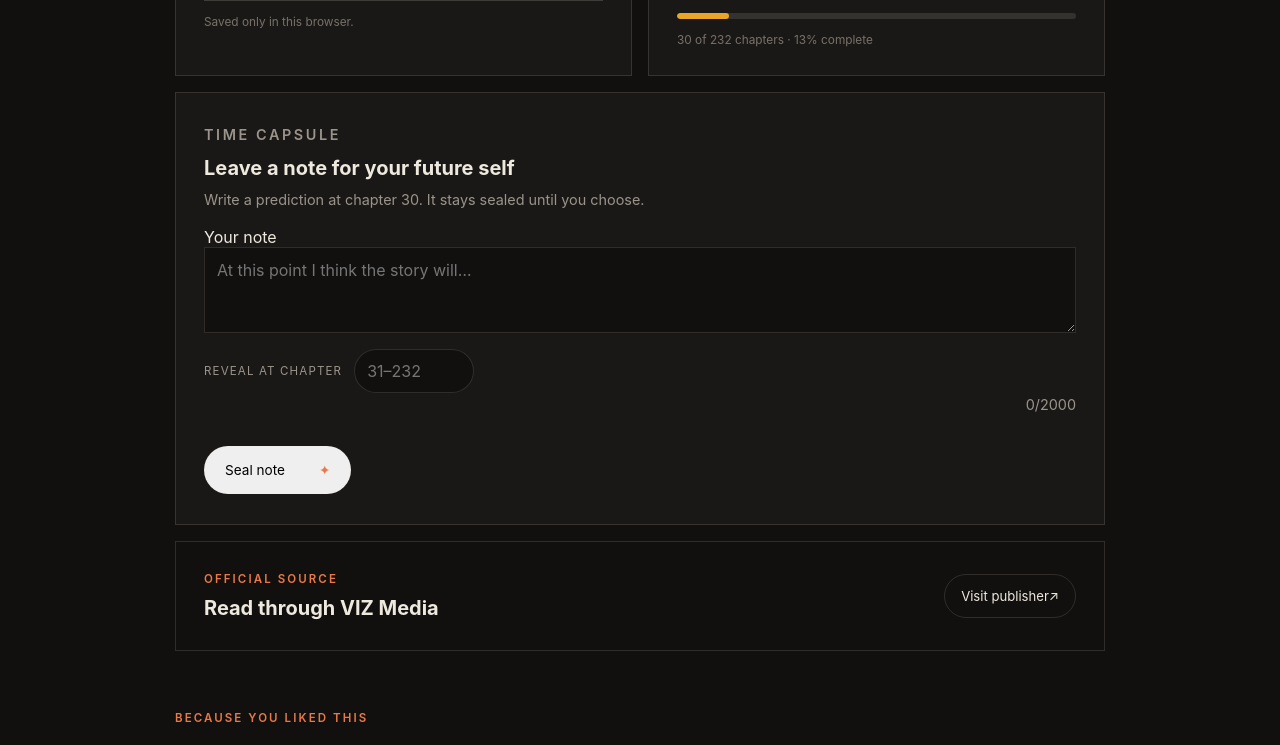
Scenario: capsule failure paths › seal: a failed write surfaces an error and the note is not persisted
This screenshot has width=1280, height=745.
(page scrolled)
Step 1. Type "60" into the number field labelled "Reveal at chapter" → (414, 371), box [354, 349, 474, 393]
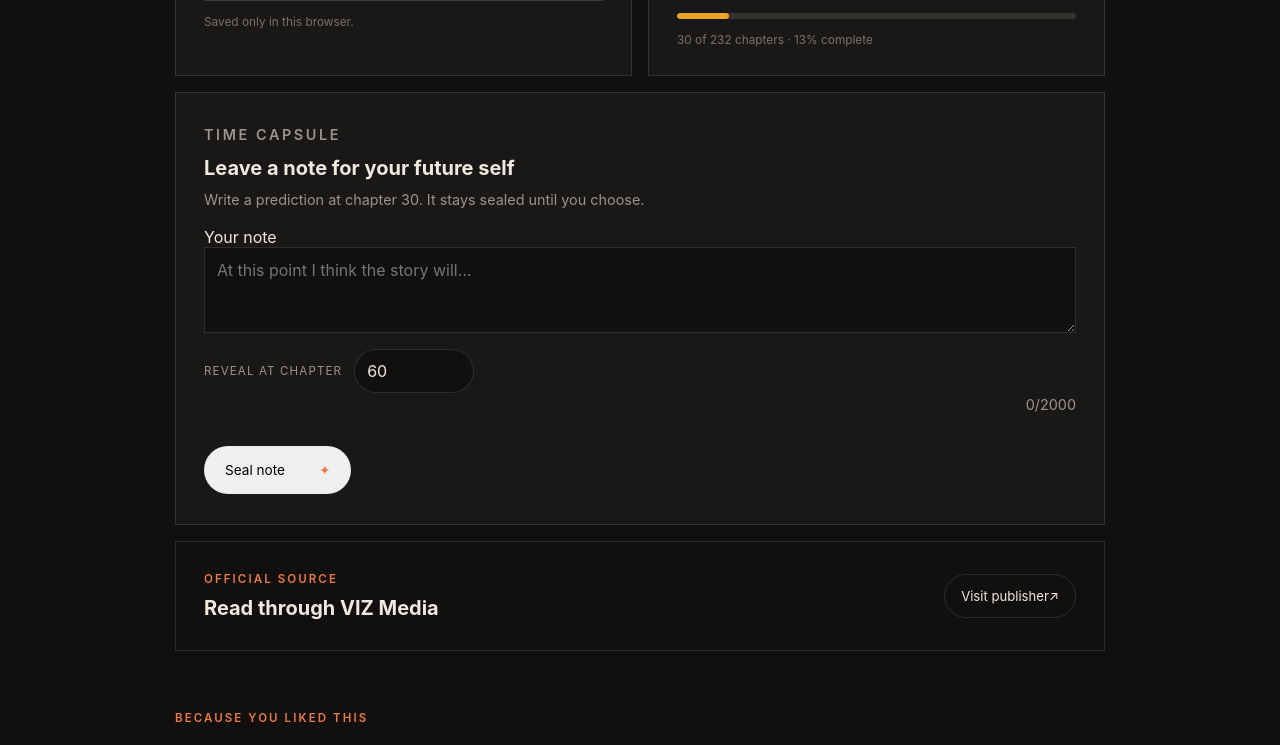
Step 2. Type "will be lost" into the text box labelled "Your note" → (640, 290), box [204, 247, 1076, 333]
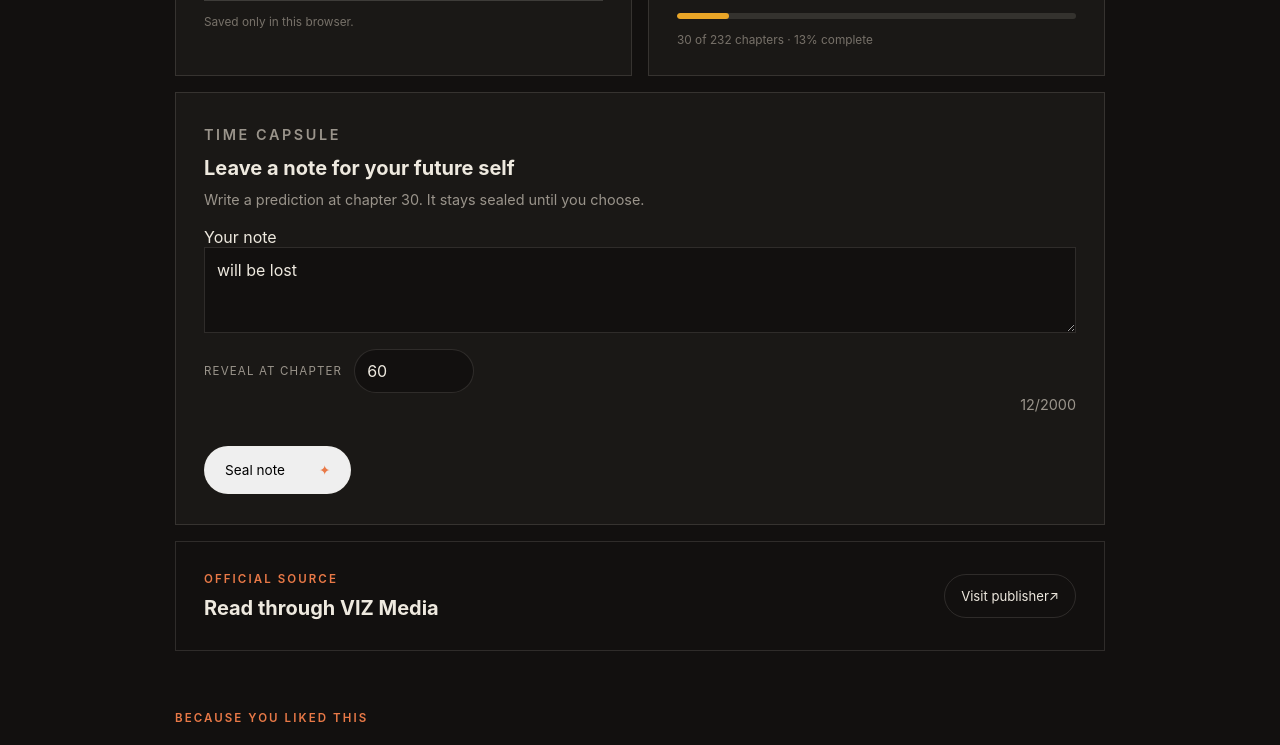
Step 3. Submit the form named "Seal note", box [175, 92, 1105, 525]
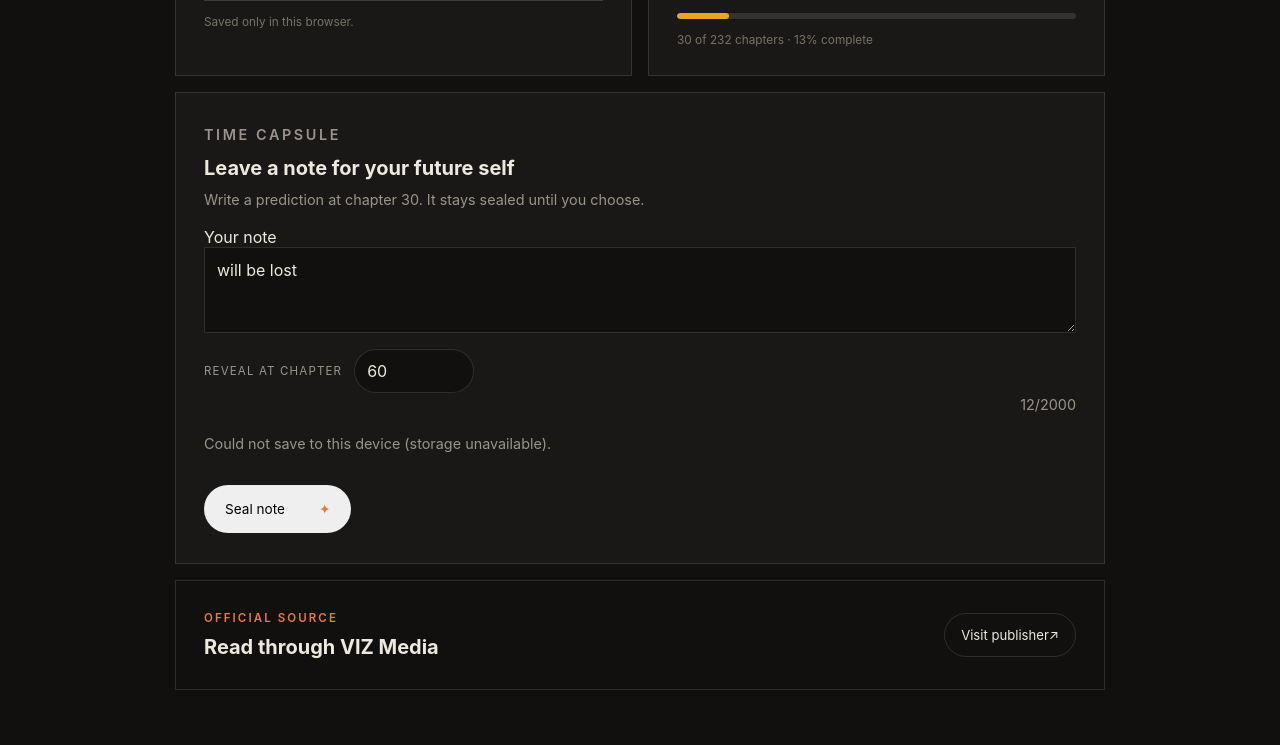
Now the message shows "Could not save to this device", box [204, 435, 551, 452]
